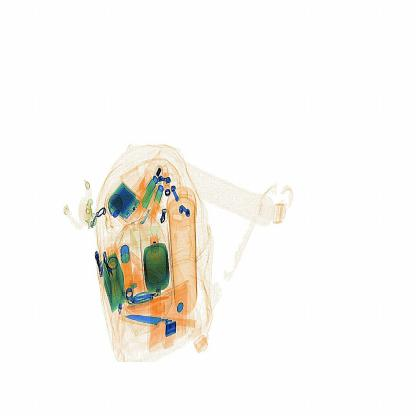wrench: (125, 310, 193, 330)
